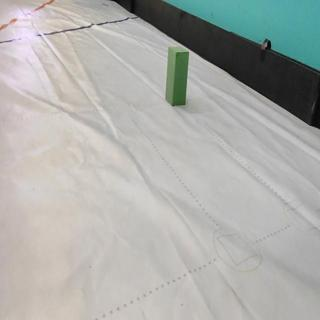greenbox: (166, 43, 190, 108)
